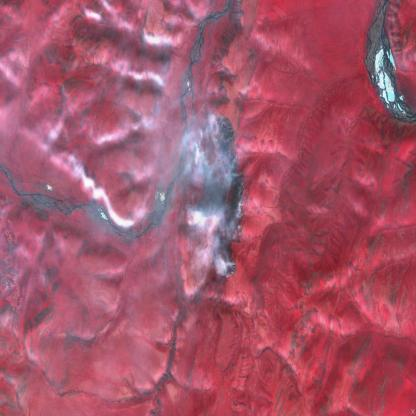fire: (188, 105, 248, 286)
